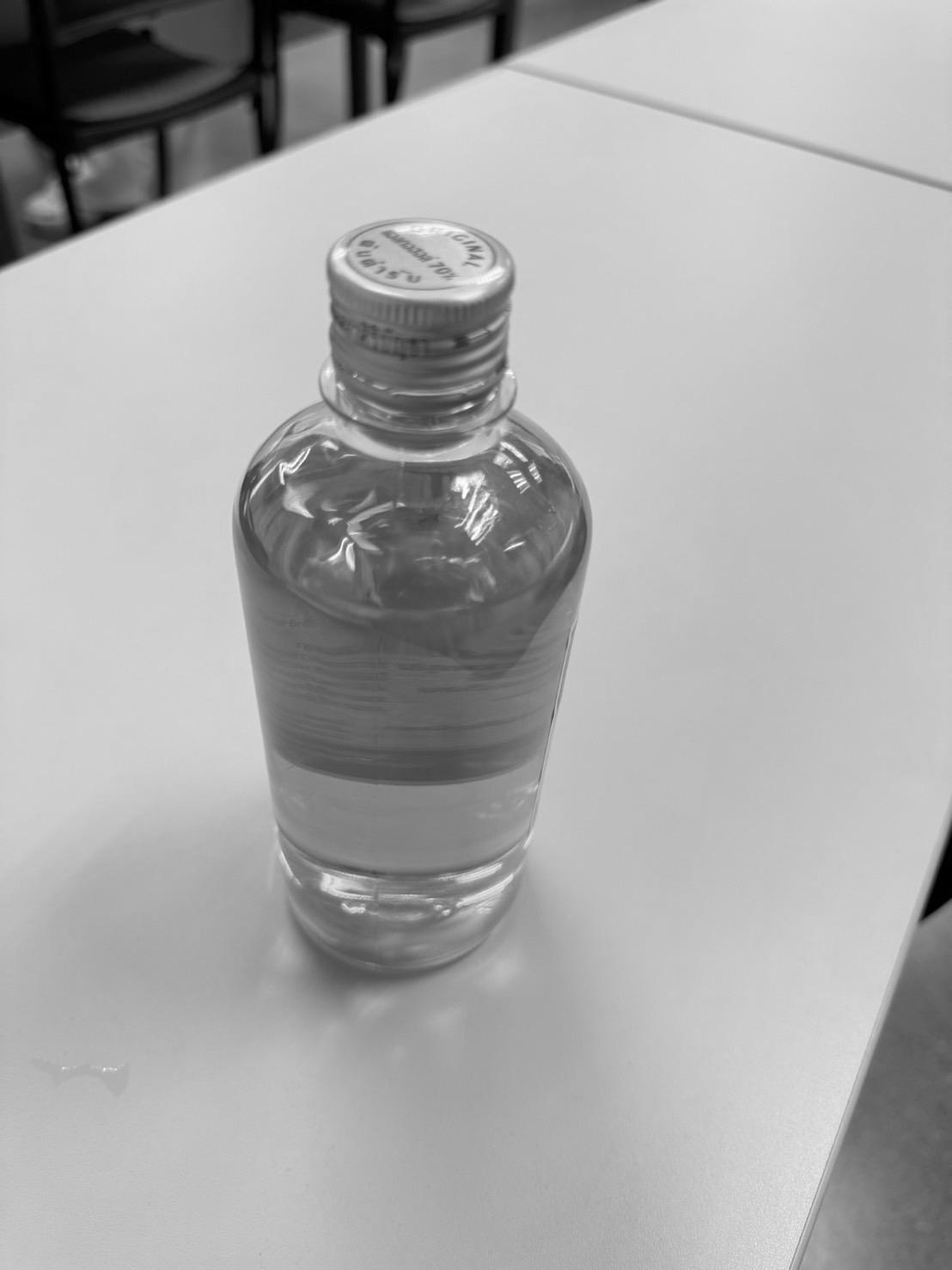bottle: (234, 220, 590, 975)
